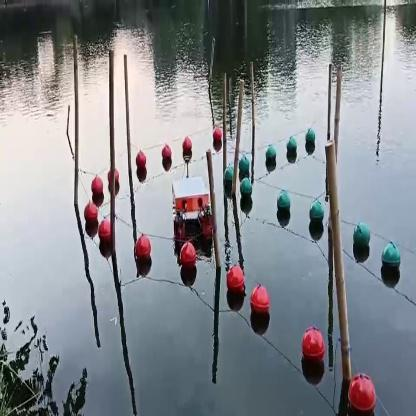green_buoy: (351, 219, 370, 256), (383, 239, 399, 274), (308, 203, 324, 234), (277, 185, 289, 221), (237, 156, 254, 180), (306, 127, 315, 159), (263, 150, 276, 172), (240, 178, 250, 206), (288, 140, 298, 162), (228, 166, 235, 194)
red_buoy: (344, 367, 377, 415), (252, 278, 270, 333), (180, 237, 200, 280), (304, 327, 324, 370), (226, 264, 246, 305), (80, 196, 100, 230), (132, 228, 150, 264), (162, 138, 172, 170), (134, 148, 146, 172), (212, 122, 221, 152), (92, 176, 104, 197), (102, 214, 110, 245), (182, 136, 192, 159)
